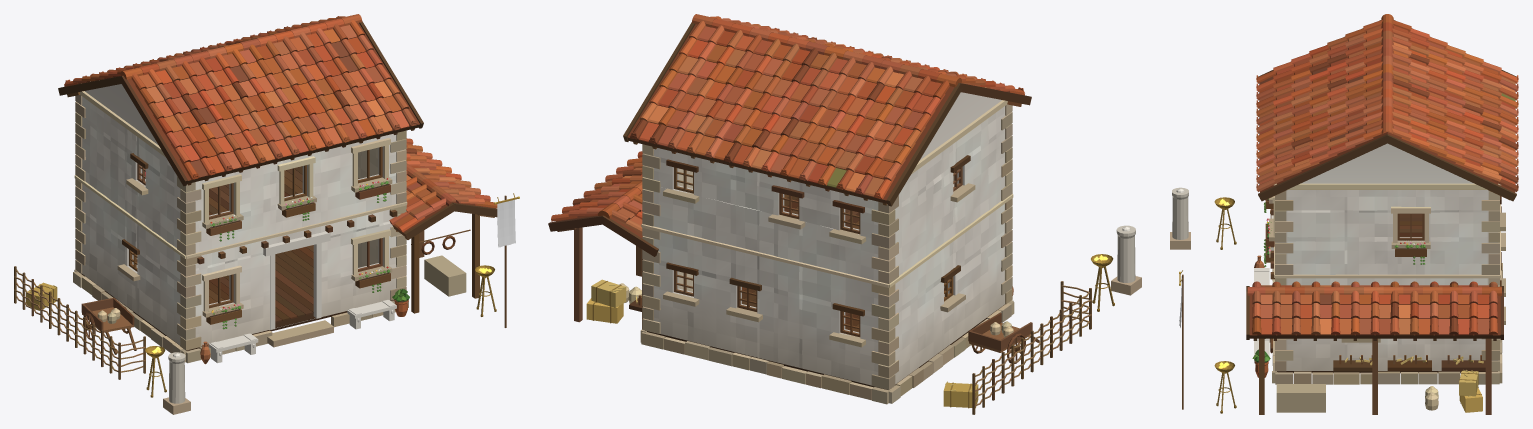
Rendered from civ_center1.glb.
The picture shows the model from 3 angles, left to right: view 1: azimuth 30°, elevation 25°; view 2: azimuth 150°, elevation 25°; view 3: azimuth 270°, elevation 25°; orthographic projection. The views are drawn at different scales.
Visible parts, largest first — view 1: House, Walls, Rooms; view 2: House, Walls, Rooms; view 3: House, Walls, Rooms.
Boxes of the visible parts, <box> form: House: <box>14,14,519,414</box>; Walls: <box>81,84,403,346</box>; Rooms: <box>136,147,378,322</box>; House: <box>548,14,1141,414</box>; Walls: <box>645,92,1005,385</box>; Rooms: <box>678,168,954,332</box>; House: <box>1170,14,1518,414</box>; Walls: <box>1277,143,1497,370</box>; Rooms: <box>1399,213,1422,236</box>.
Bounding box in the file's own units: 8.91 × 5.74 × 7.07.
8 materials, 8 textured.
